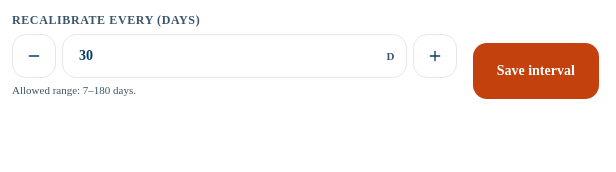
Test case: recalibration interval form › can clear the day count and retype it
This screenshot has width=616, height=172.
Clear the number field labelled "Recalibrate every (days)" at (234, 56), box [62,34,407,78]
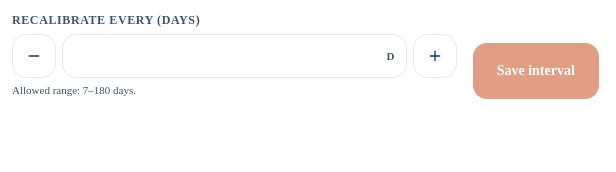
Type "45" into the number field labelled "Recalibrate every (days)" at (234, 56), box [62,34,407,78]
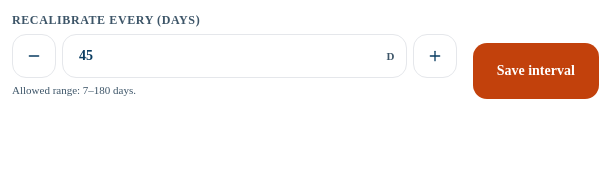
Expected: the button "Save interval" is enabled, [473,42,599,98]
